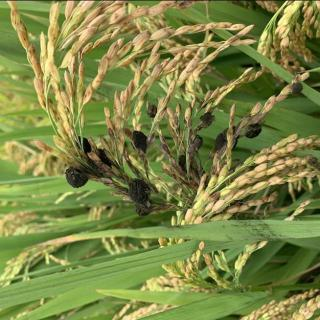Gosong-Palsu: (63, 136, 91, 187), (128, 177, 154, 217), (212, 124, 238, 154), (130, 130, 150, 152), (243, 121, 264, 139), (198, 110, 216, 128), (288, 78, 304, 95), (146, 103, 160, 119)
